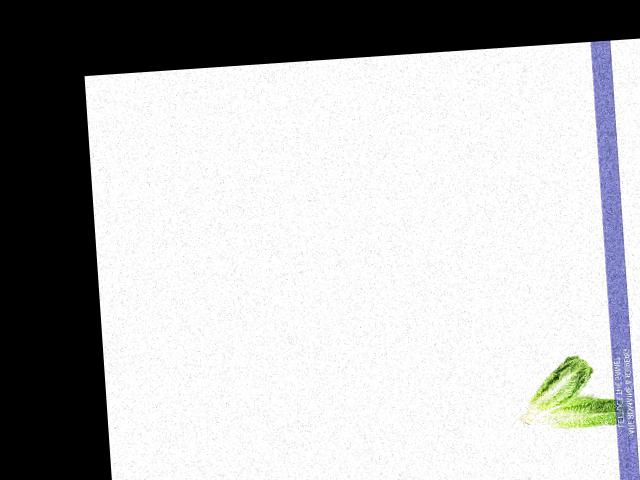lettuce: (514, 355, 603, 429)
